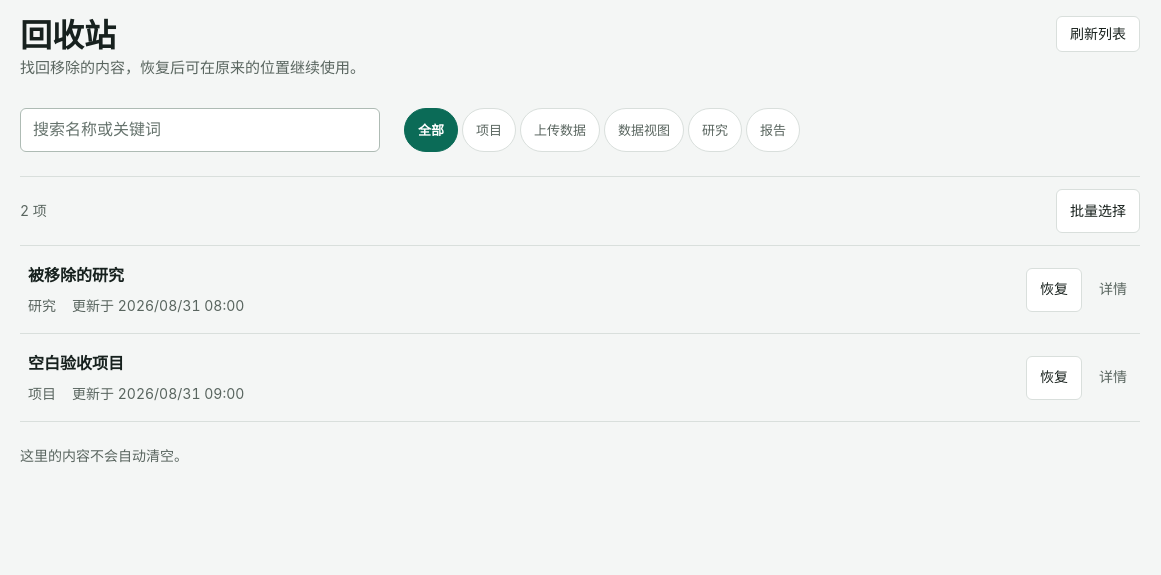
Test case: rejects a same-count response with different restored identities
This screenshot has width=1161, height=575.
Click the button "恢复" in the row of "2026/08/31 09:00". click: (1054, 378)
box: [1026,356,1082,400]
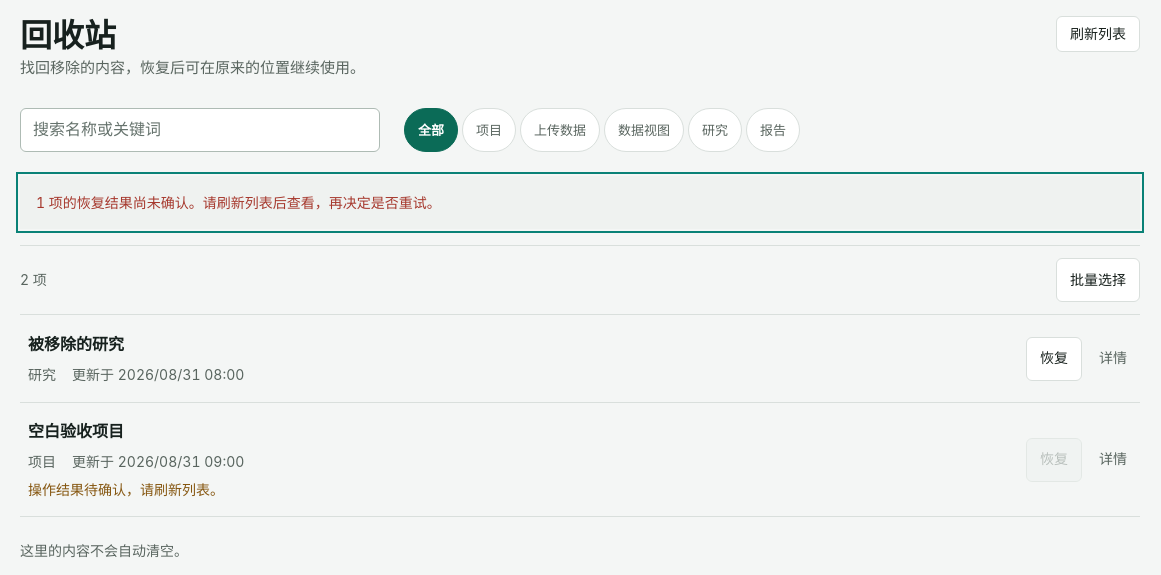
Expected: the heading "空白验收项目" is shown, [28,421,124,441]
Result: the message shows "恢复结果尚未确认" at [36,194,441,211]
